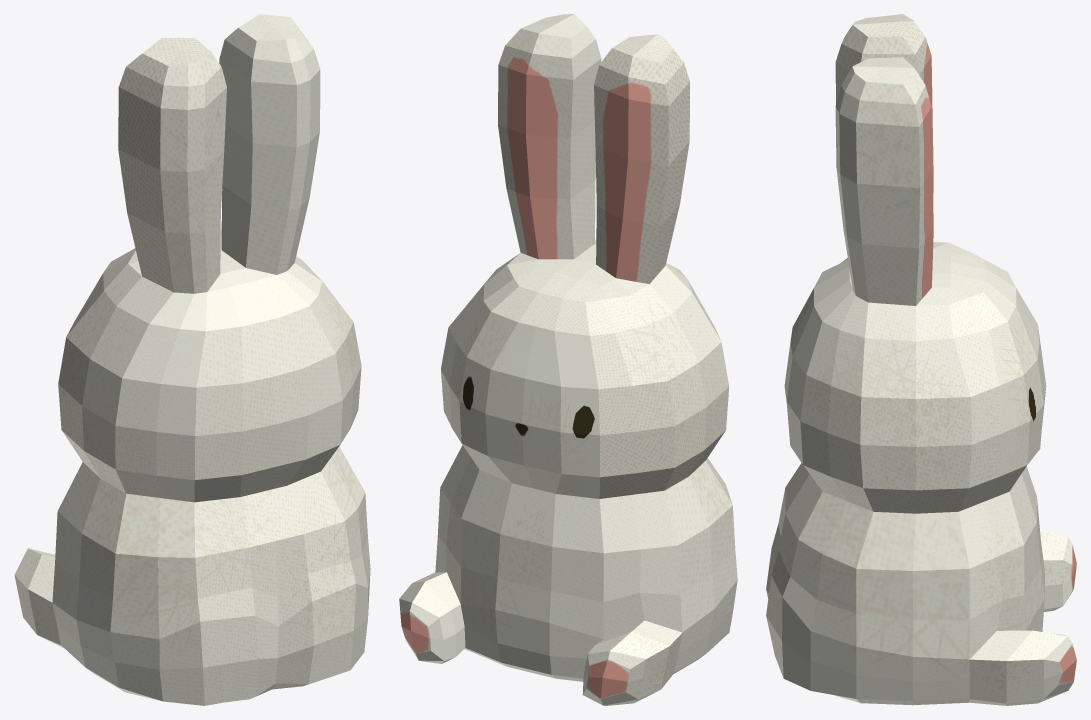
The model's file is LampBunny.fbx.
3 renders of one model, left to right at view 1: azimuth 30°, elevation 25°; view 2: azimuth 150°, elevation 25°; view 3: azimuth 270°, elevation 25°, orthographic. The views are drawn at different scales.
Parts seen in each view (by area): view 1: bunnyLamp; view 2: bunnyLamp; view 3: bunnyLamp.
Part boxes in pixels (x1,y1,x2,y2): bunnyLamp: (14, 14, 370, 705); bunnyLamp: (399, 14, 737, 705); bunnyLamp: (766, 14, 1076, 705).
Size of the model in its own units: 309 by 674 by 314.
Materials: 1 (1 with a texture image).
